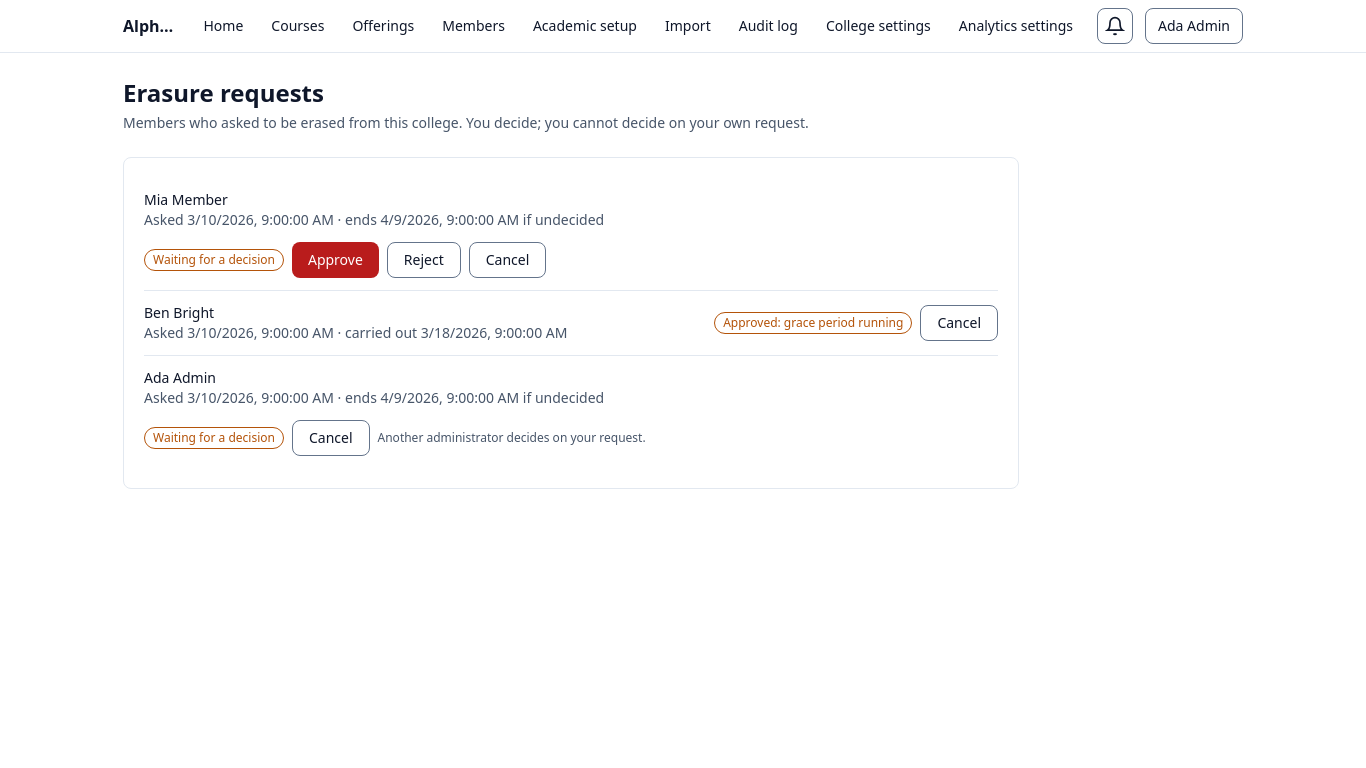
Test: Erasure requests (administrators) › lists the requests; approving names the member and the 7 days, updates the row in place; your own request cannot be decided by you
Check: the text "Mia Member" is shown, box [144,190,228,209]
Check: the text "Another administrator decides on your request." is shown, box [378,430,646,446]
Step 1. Click the button "Approve" → (335, 260), box [292,242,379,278]
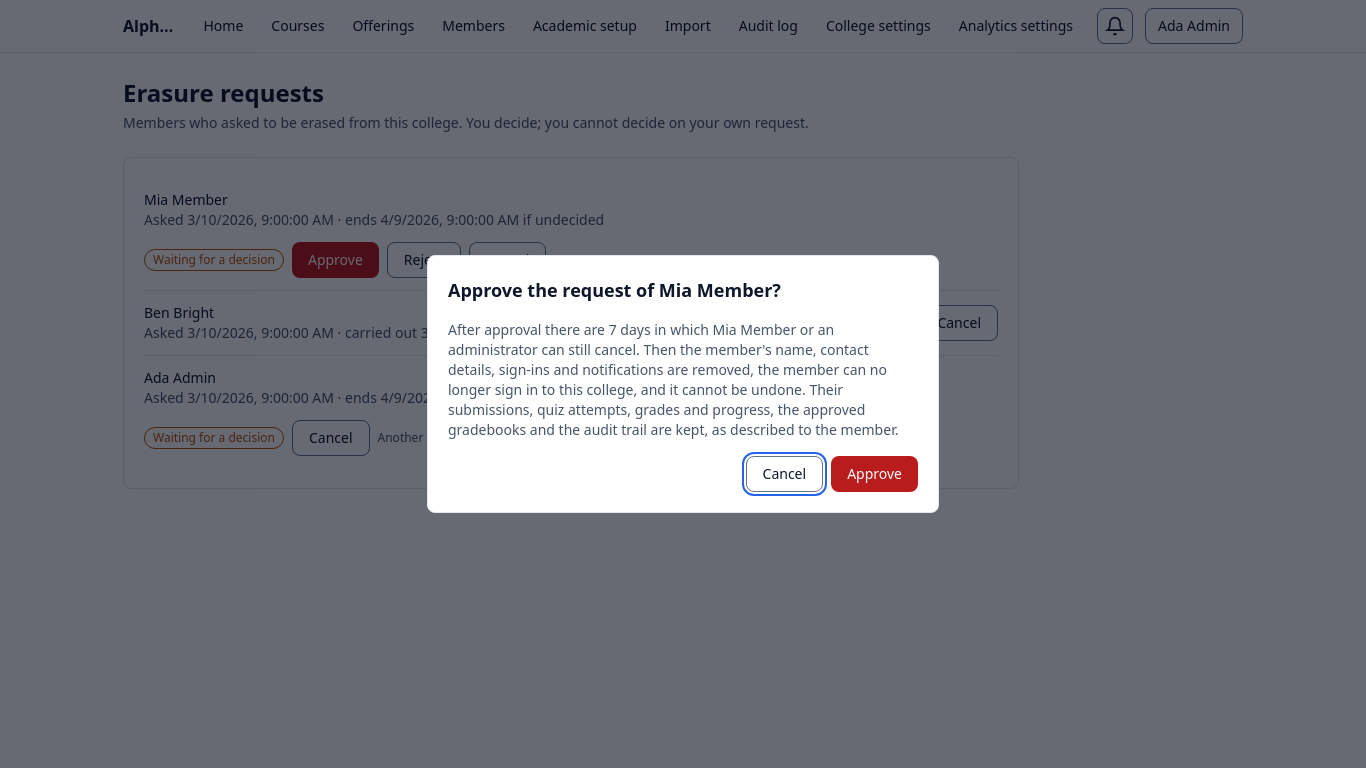
Check: the heading "Approve the request of Mia Member?" is shown, box [448,278,781,302]
Check: the dialog shows "7 days", box [448,320,712,339]
Check: the dialog shows "cannot be undone", box [448,320,898,439]
Step 2. Click the button "Approve" → (875, 474), box [831,456,918,492]
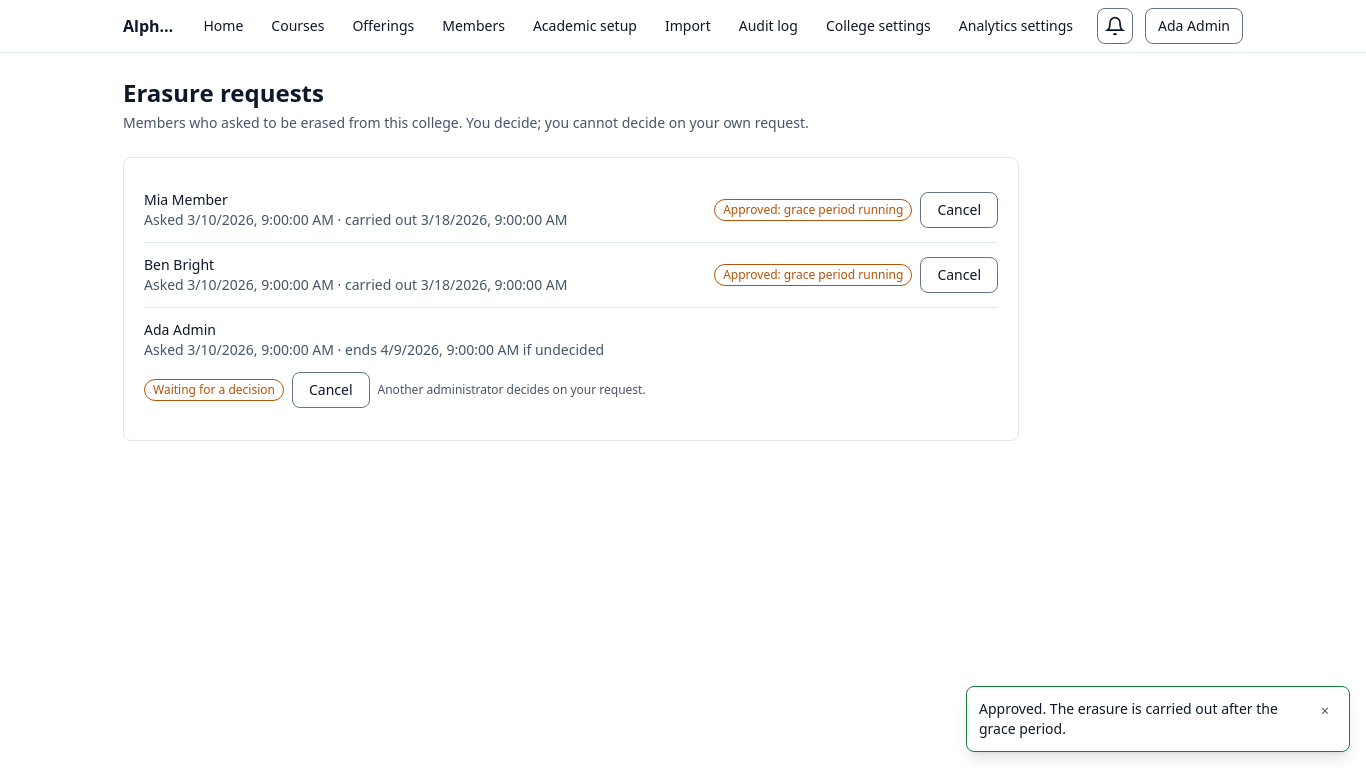
Check: the text "Approved: grace period running" in the row of "Mia Member" is shown, box [723,201,903,218]
